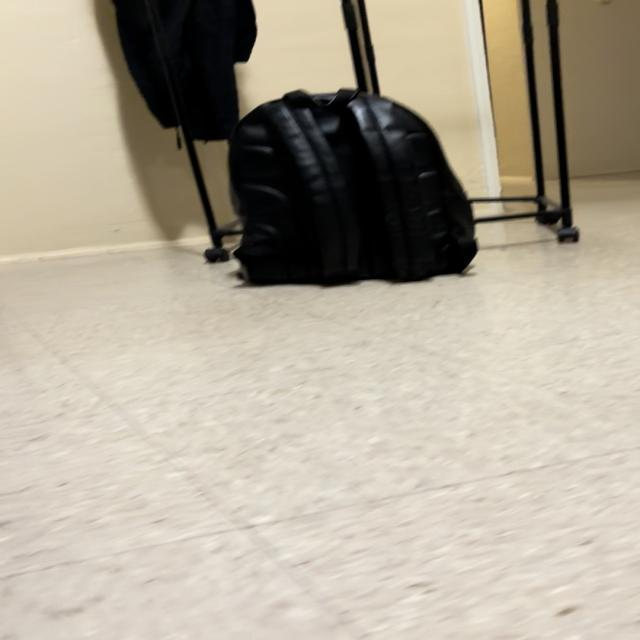backpack: (229, 90, 476, 284)
